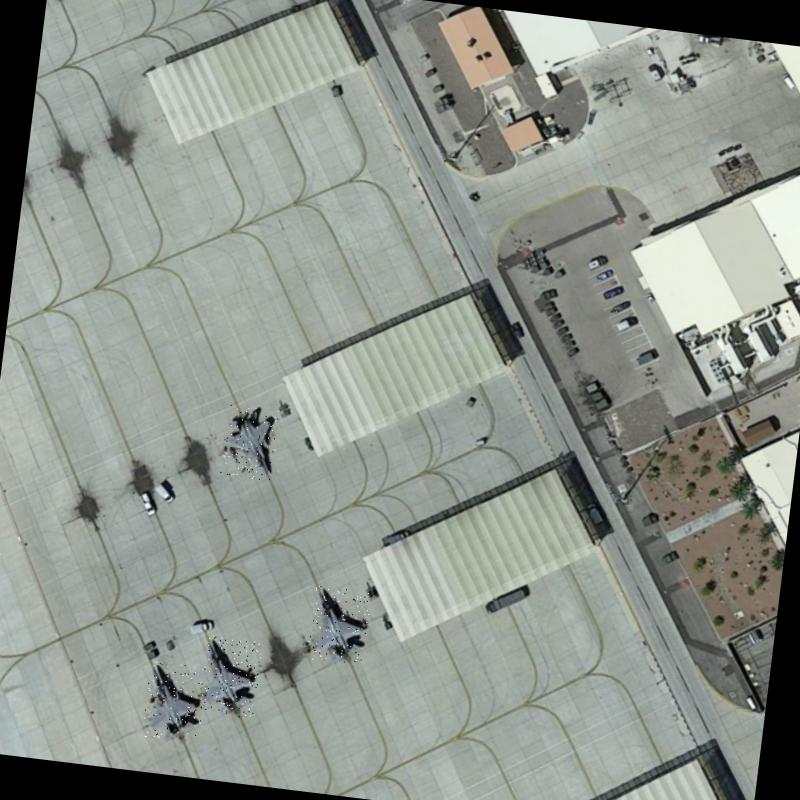A13: (141, 660, 207, 742), (306, 585, 372, 665), (198, 636, 262, 718), (220, 404, 280, 482)
